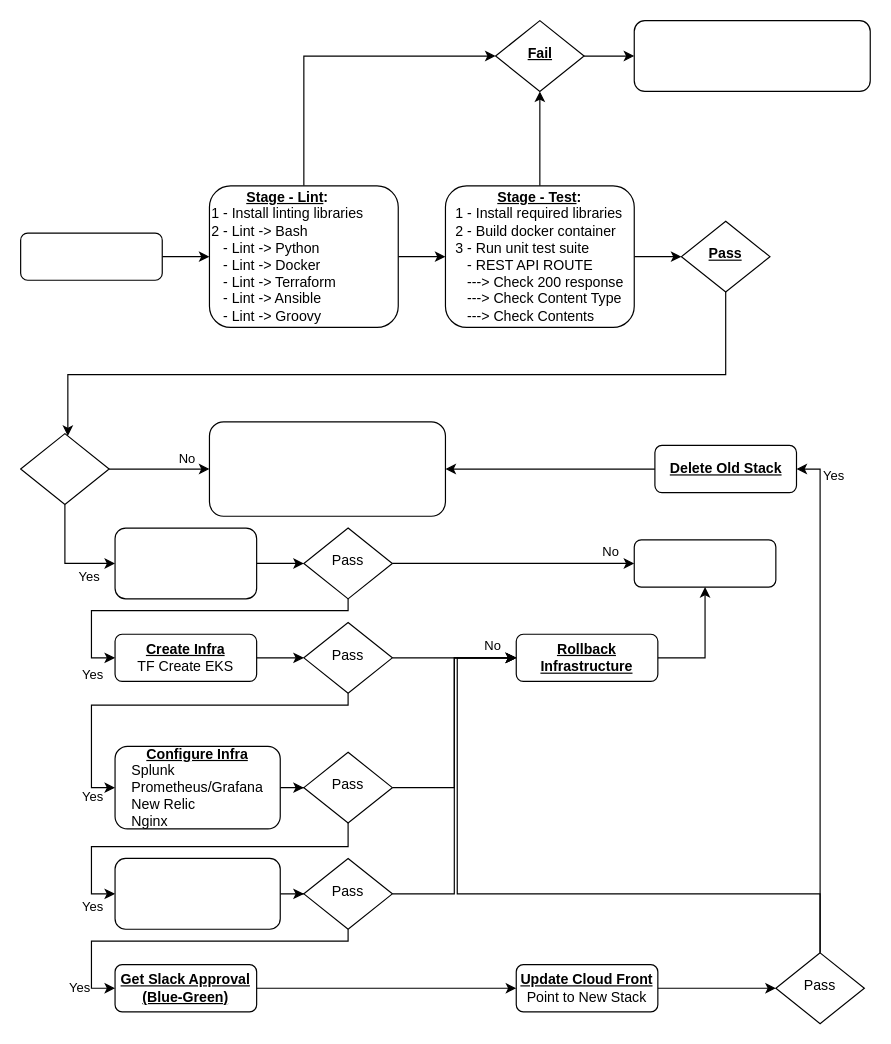
The diagram is 891 pixels wide and 1044 high, and some of its shapes have lost their labels. The shapes that lost their labels are listed below. From the top down, each one's centre as x and y in pixels, then its label:
At (x=751, y=55): "Failure - Slack Failed CI Message Note Stage of Failure".
At (x=90, y=256): "Git Push".
At (x=64, y=468): "Is Master".
At (x=326, y=468): "Success - Slack Passed CI Message on Branch Passed CD (If applicable)".
At (x=185, y=563): "Upload Docker ECR Docker Hub".
At (x=704, y=563): "Failure - Slack Failed CD Message".
At (x=197, y=893): "Smoke Test Endpoints Verification Nginx Port Forward".
